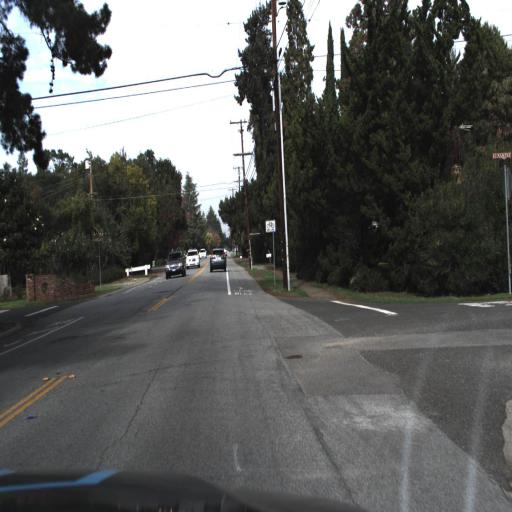car: (162, 249, 185, 278), (208, 246, 229, 275), (185, 246, 200, 271)
